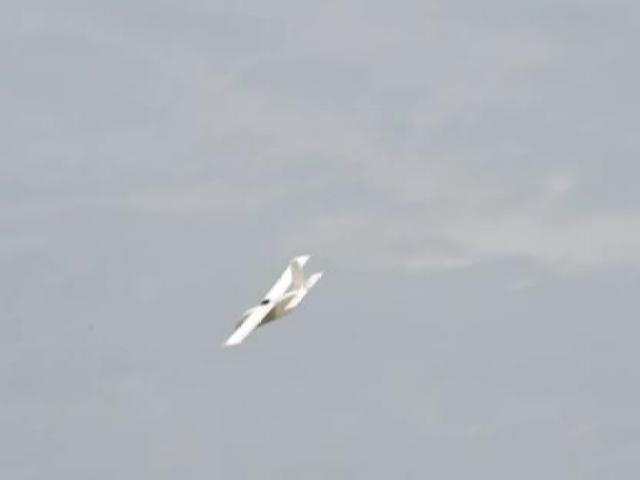uav: (221, 249, 327, 358)
